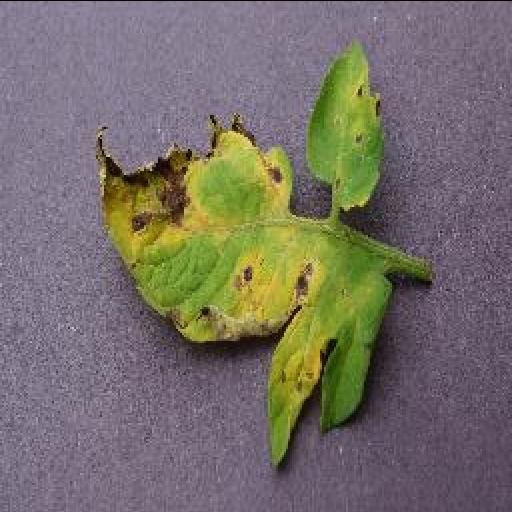disease_tomato: (92, 110, 394, 476), (306, 35, 384, 209)
